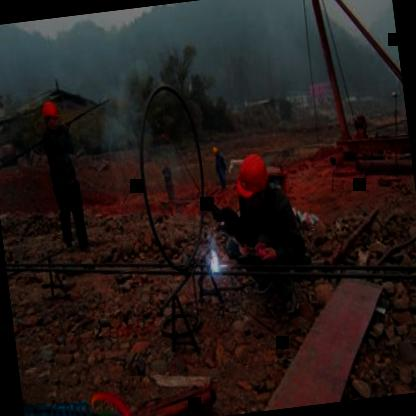helmet: (236, 151, 274, 207), (38, 96, 63, 137)
